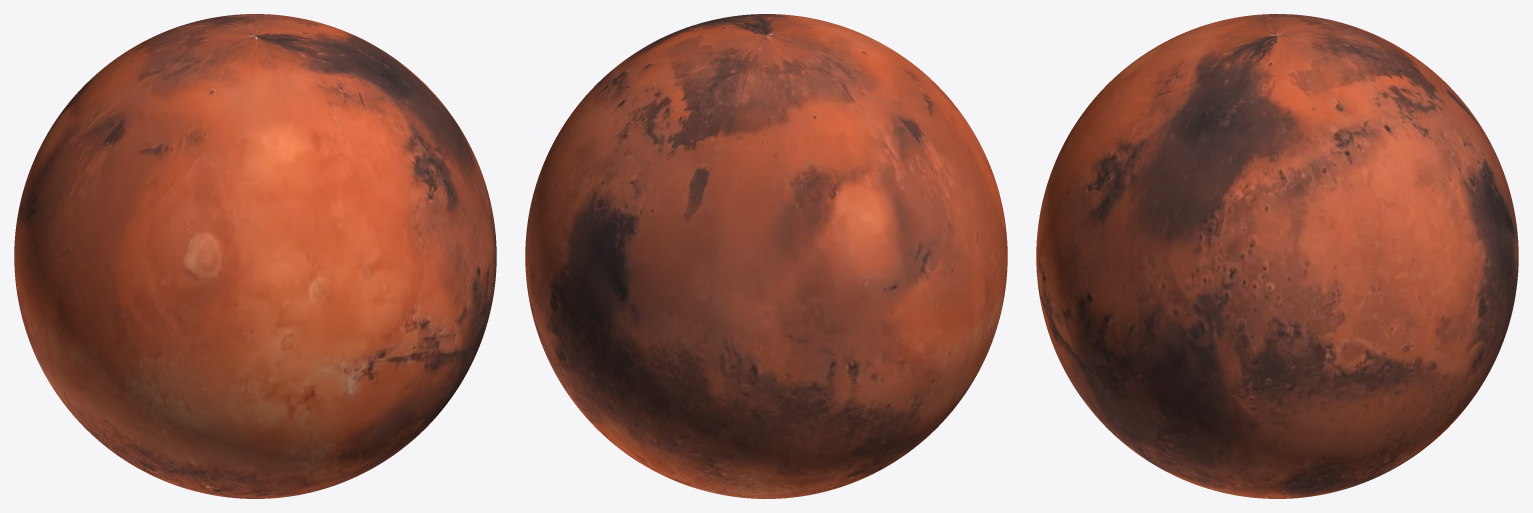
The model's file is mars_compressed.glb.
3 renders of one model, left to right at view 1: azimuth 30°, elevation 25°; view 2: azimuth 150°, elevation 25°; view 3: azimuth 270°, elevation 25°, orthographic.
Parts seen in each view (by area): view 1: Object_4; view 2: Object_4; view 3: Object_4.
Part boxes in pixels (left/top/right/bottom): Object_4: left=14, top=14, right=496, bottom=498; Object_4: left=525, top=14, right=1007, bottom=498; Object_4: left=1036, top=14, right=1518, bottom=498.
Bounding box in the file's own units: 3.91 × 3.95 × 3.91.
1 material, 1 textured.
